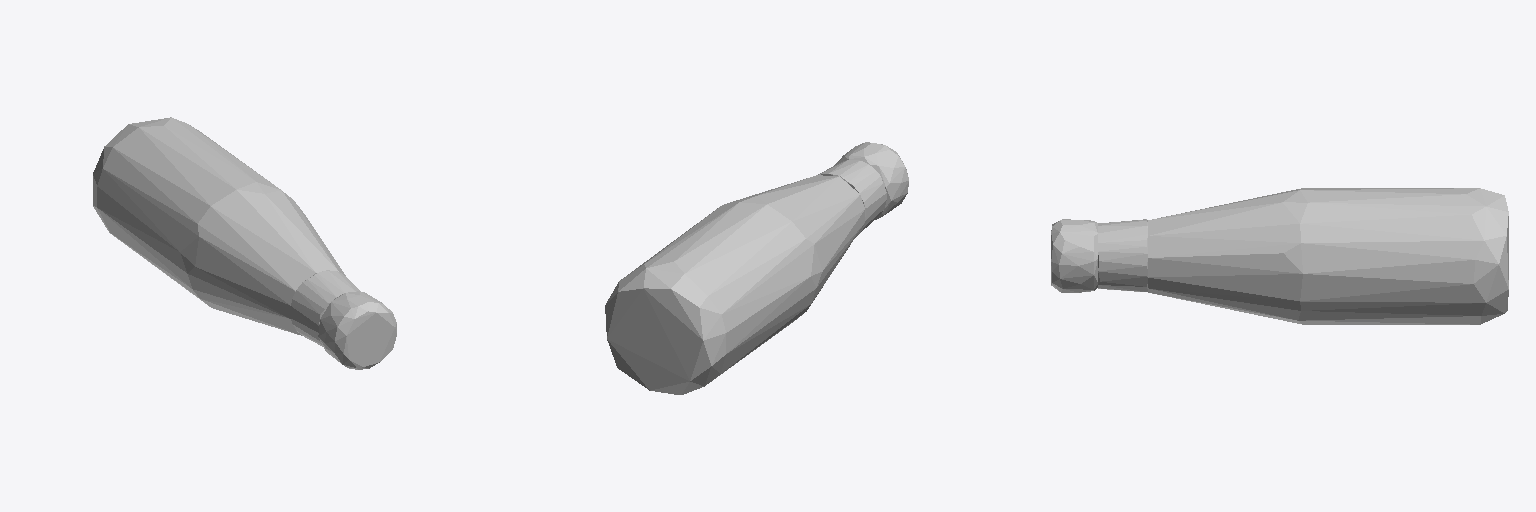
File: bottle_vhacd.obj
3 views of the same model, side by side, from view 1: azimuth 30°, elevation 25°; view 2: azimuth 150°, elevation 25°; view 3: azimuth 270°, elevation 25° (orthographic).
Visible parts, largest first — view 1: convex_0, convex_2, convex_1; view 2: convex_0, convex_2, convex_1; view 3: convex_0, convex_1, convex_2.
Part boxes in pixels (bbox=[...]): convex_0: bbox=[93, 117, 345, 335]; convex_2: bbox=[318, 291, 396, 369]; convex_1: bbox=[291, 270, 359, 346]; convex_0: bbox=[605, 175, 864, 394]; convex_2: bbox=[834, 142, 908, 219]; convex_1: bbox=[818, 160, 886, 237]; convex_0: bbox=[1148, 188, 1508, 324]; convex_1: bbox=[1098, 219, 1147, 291]; convex_2: bbox=[1051, 219, 1097, 292].
Bounding box in the file's own units: 87.73 × 87.73 × 293.